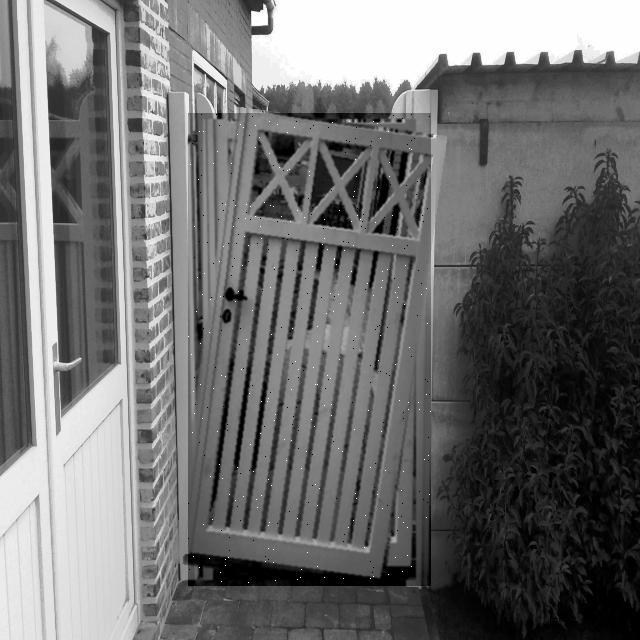fences: (188, 113, 431, 586)
